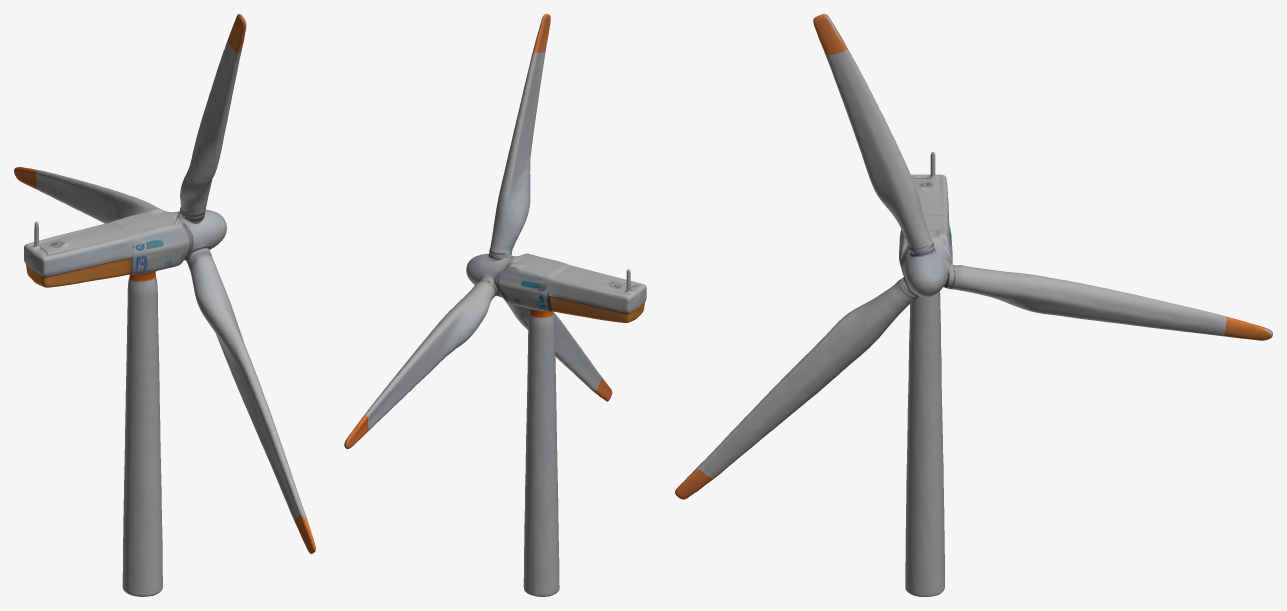
The model's file is wind_turbine.glb.
3 views of the same model, side by side, from view 1: azimuth 30°, elevation 25°; view 2: azimuth 150°, elevation 25°; view 3: azimuth 270°, elevation 25° (orthographic). The views are drawn at different scales.
Parts seen in each view (by area): view 1: tripo_node_835f1bcb-6b32-4bd3-842f-079218da7f03; view 2: tripo_node_835f1bcb-6b32-4bd3-842f-079218da7f03; view 3: tripo_node_835f1bcb-6b32-4bd3-842f-079218da7f03.
Boxes of the visible parts, left/top/right/bottom form: tripo_node_835f1bcb-6b32-4bd3-842f-079218da7f03: left=14, top=14, right=315, bottom=596; tripo_node_835f1bcb-6b32-4bd3-842f-079218da7f03: left=344, top=14, right=646, bottom=596; tripo_node_835f1bcb-6b32-4bd3-842f-079218da7f03: left=675, top=14, right=1272, bottom=596.
Bounding box in the file's own units: 0.3177 × 0.947 × 0.8581.
1 material, 1 textured.
